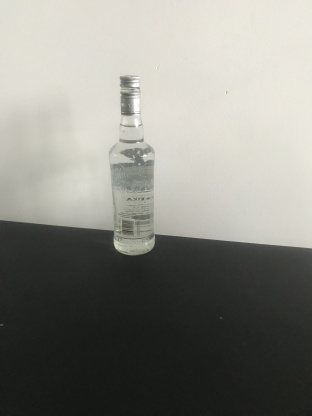nakretka: (118, 73, 142, 115)
